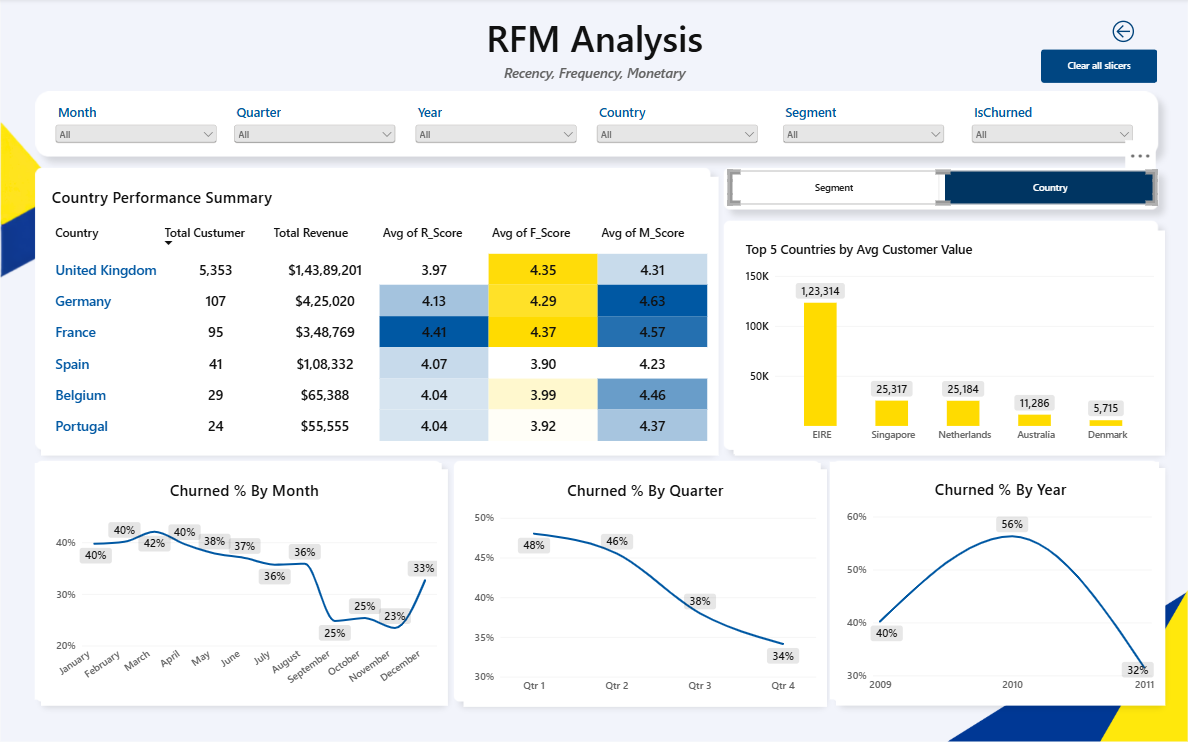

What the dashboard file says about the page in this screenshot:
{"tool":"powerbi","page":{"name":"RFM Analysis","canvas":[2000,1100],"ordinal":2},"visuals":[{"type":"slicer","fields":{"Values":["Sheet1.InvoiceMonth.Variation.Date Hierarchy.Month"]},"box":[200.6,155.6,247.5,67.5],"z":0},{"type":"pivotTable","title":"Country Performance Summary","fields":{"Rows":["Sheet1.Country"],"Values":["Sheet1.Total Custumer","Sheet1.Total Revenue","Avg(Sheet1.R_Score)","Avg(Sheet1.F_Score)","Avg(Sheet1.M_Score)"]},"box":[185.1,264.4,999,411],"z":0,"group":"g3"},{"type":"columnChart","title":"Total Customers By Segment","fields":{"Category":["Sheet1.Segment"],"Y":["Sheet1.Total Custumer"]},"box":[184.4,385,997.4,288.7],"z":0,"group":"g2"},{"type":"lineChart","title":"Churned % By Year","fields":{"Category":["Sheet1.InvoiceDate.Variation.Date Hierarchy.Year"],"Y":["Sheet1.Churned %"]},"box":[1346.1,684.3,485.6,350.6],"z":0,"group":"g1"},{"type":"slicer","fields":{"Values":["Sheet1.InvoiceMonth.Variation.Date Hierarchy.Quarter"]},"box":[464.9,155.6,247.5,67.5],"z":1000},{"type":"columnChart","title":"Top 5 Countries by Avg Customer Value","fields":{"Category":["Sheet1.Country"],"Y":["Sheet1.Avg Customer Value"]},"box":[1208.1,343.7,634.1,331.8],"z":1000,"group":"g3"},{"type":"columnChart","title":"Customers Retention By Segment","fields":{"Category":["Sheet1.Segment"],"Series":["Sheet1.IsChurned"],"Y":["Sheet1.Total Custumer"]},"box":[1206.2,345.6,635.5,328.1],"z":1000,"group":"g2"},{"type":"lineChart","title":"Churned % By Quarter","fields":{"Category":["Sheet1.InvoiceDate.Variation.Date Hierarchy.Quarter"],"Y":["Sheet1.Churned %"]},"box":[796.8,686.2,536.2,350.6],"z":1000,"group":"g1"},{"type":"slicer","fields":{"Values":["Sheet1.InvoiceMonth.Variation.Date Hierarchy.Year"]},"box":[731.2,155.6,247.5,76.9],"z":2000},{"type":"lineChart","title":"Churned % By Month","fields":{"Category":["Sheet1.InvoiceDate.Variation.Date Hierarchy.Month"],"Y":["Sheet1.Churned %"]},"box":[174.4,686.2,599.9,348.7],"z":2000,"group":"g1"},{"type":"lineChart","title":"Churned % By Year","fields":{"Category":["Sheet1.InvoiceDate.Variation.Date Hierarchy.Year"],"Y":["Sheet1.Churned %"]},"box":[1356.1,694.3,485.6,350.6],"z":2000,"group":"g2"},{"type":"slicer","fields":{"Values":["Sheet1.Country"]},"box":[999.3,155.6,247.5,67.5],"z":3000},{"type":"lineChart","title":"Churned % By Quarter","fields":{"Category":["Sheet1.InvoiceDate.Variation.Date Hierarchy.Quarter"],"Y":["Sheet1.Churned %"]},"box":[806.8,696.2,536.2,350.6],"z":3000,"group":"g2"},{"type":"slicer","fields":{"Values":["Sheet1.Segment"]},"box":[1273,155.6,247.5,67.5],"z":4000},{"type":"lineChart","title":"Churned % By Month","fields":{"Category":["Sheet1.InvoiceDate.Variation.Date Hierarchy.Month"],"Y":["Sheet1.Churned %"]},"box":[184.4,696.2,599.9,348.7],"z":4000,"group":"g2"},{"type":"slicer","fields":{"Values":["Sheet1.IsChurned"]},"box":[1552.3,155.6,247.5,67.5],"z":5000},{"type":"group","id":"g1","title":"Revenue","box":[174.4,684.3,1657.3,352.5],"z":6000},{"type":"group","id":"g2","title":"Customer","box":[184.4,345.6,1657.3,701.2],"z":7000},{"type":"bookmarkNavigator","box":[1198.1,254.4,632.2,49.8],"z":8000},{"type":"textbox","title":"RFM Analysis","box":[443.4,22.1,1113.3,105.1],"z":9000},{"type":"actionButton","box":[1730.7,22.1,99.5,53.5],"z":10000},{"type":"actionButton","box":[1658.9,75.6,171.4,49.8],"z":11000},{"type":"group","id":"g3","title":"Group 2","box":[185.1,264.4,1657,411],"z":13000},{"type":"bookmarkNavigator","box":[1197.4,254.7,631.8,50.1],"z":14000}]}

Visuals, with their boxes on the page's 2000x1100 design canvas (x1, y1, x2, y2). These are canvas units, not pixel positions in the 1188x742 screenshot, which may show the page scaled, cropped or inside an application window:
slicer - Sheet1.InvoiceMonth.Variation.Date Hierarchy.Month: x1=201, y1=156, x2=448, y2=223
"Country Performance Summary" pivotTable: x1=185, y1=264, x2=1184, y2=675
"Total Customers By Segment" columnChart: x1=184, y1=385, x2=1182, y2=674
"Churned % By Year" lineChart: x1=1346, y1=684, x2=1832, y2=1035
slicer - Sheet1.InvoiceMonth.Variation.Date Hierarchy.Quarter: x1=465, y1=156, x2=712, y2=223
"Top 5 Countries by Avg Customer Value" columnChart: x1=1208, y1=344, x2=1842, y2=676
"Customers Retention By Segment" columnChart: x1=1206, y1=346, x2=1842, y2=674
"Churned % By Quarter" lineChart: x1=797, y1=686, x2=1333, y2=1037
slicer - Sheet1.InvoiceMonth.Variation.Date Hierarchy.Year: x1=731, y1=156, x2=979, y2=232
"Churned % By Month" lineChart: x1=174, y1=686, x2=774, y2=1035
"Churned % By Year" lineChart: x1=1356, y1=694, x2=1842, y2=1045
slicer - Sheet1.Country: x1=999, y1=156, x2=1247, y2=223
"Churned % By Quarter" lineChart: x1=807, y1=696, x2=1343, y2=1047
slicer - Sheet1.Segment: x1=1273, y1=156, x2=1520, y2=223
"Churned % By Month" lineChart: x1=184, y1=696, x2=784, y2=1045
slicer - Sheet1.IsChurned: x1=1552, y1=156, x2=1800, y2=223
"Revenue" group: x1=174, y1=684, x2=1832, y2=1037
"Customer" group: x1=184, y1=346, x2=1842, y2=1047
bookmarkNavigator: x1=1198, y1=254, x2=1830, y2=304
"RFM Analysis" textbox: x1=443, y1=22, x2=1557, y2=127
actionButton: x1=1731, y1=22, x2=1830, y2=76
actionButton: x1=1659, y1=76, x2=1830, y2=125
"Group 2" group: x1=185, y1=264, x2=1842, y2=675
bookmarkNavigator: x1=1197, y1=255, x2=1829, y2=305
